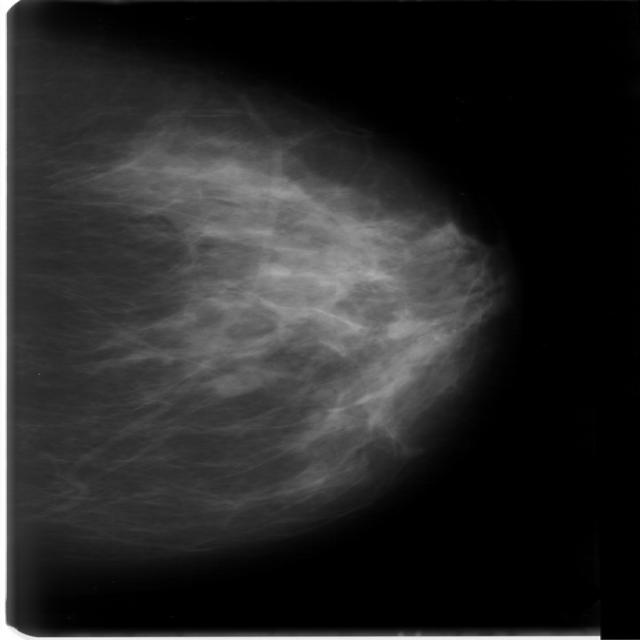tumour: (209, 370, 261, 396)
